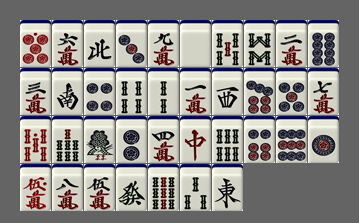0m: (20, 164, 51, 211)
0p: (20, 20, 51, 67)
0s: (20, 116, 51, 163)
1m: (180, 68, 211, 115)
1p: (308, 116, 339, 163)
1s: (84, 116, 115, 163)
1z: (212, 164, 243, 211)
2m: (276, 20, 307, 67)
2p: (116, 116, 147, 163)
2s: (148, 68, 179, 115)
2z: (52, 68, 83, 115)
3m: (20, 68, 51, 115)
3p: (116, 20, 147, 67)
3s: (180, 164, 211, 211)
3z: (212, 68, 243, 115)
4m: (148, 116, 179, 163)
4p: (84, 68, 115, 115)
4s: (116, 68, 147, 115)
4z: (84, 20, 115, 67)
5m: (84, 164, 115, 211)
5p: (276, 68, 307, 115)
5s: (212, 20, 243, 67)
5z: (180, 20, 211, 67)
6m: (52, 20, 83, 67)
6p: (244, 116, 275, 163)
6s: (212, 116, 243, 163)
6z: (116, 164, 147, 211)
7m: (308, 68, 339, 115)
7p: (244, 68, 275, 115)
7s: (52, 116, 83, 163)
7z: (180, 116, 211, 163)
8m: (52, 164, 83, 211)
8p: (308, 20, 339, 67)
8s: (244, 20, 275, 67)
9m: (148, 20, 179, 67)
9p: (276, 116, 307, 163)
9s: (148, 164, 179, 211)
